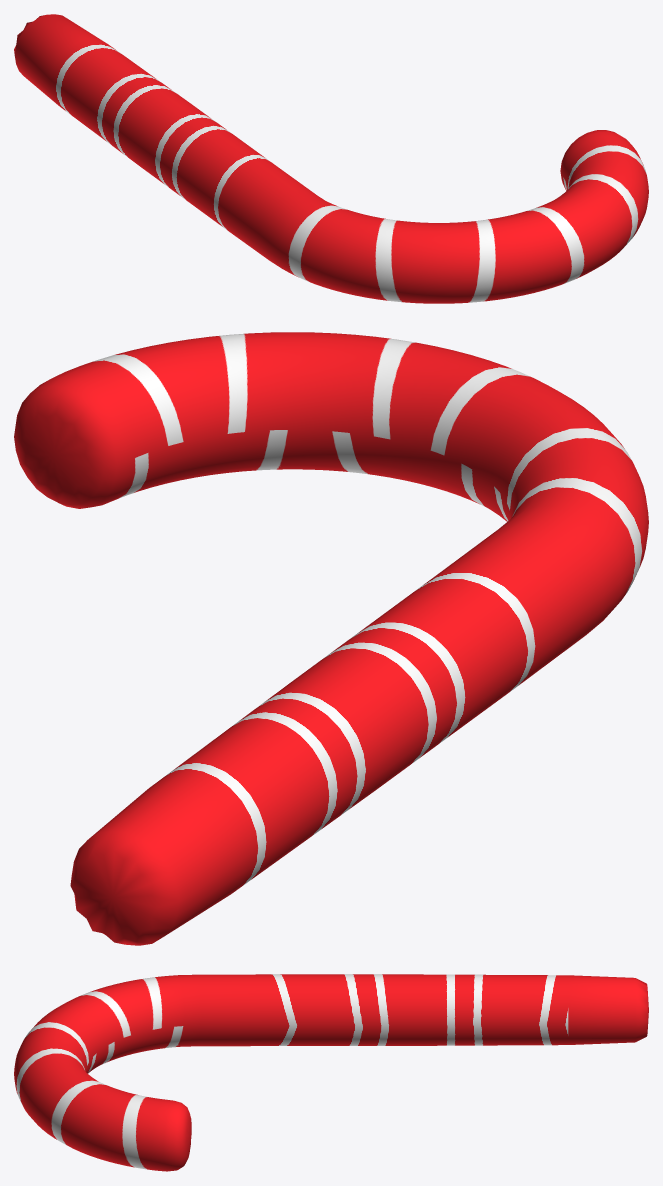
File: Bengala.fbx
The picture shows the model from 3 angles, top to bottom: view 1: azimuth 30°, elevation 25°; view 2: azimuth 150°, elevation 25°; view 3: azimuth 270°, elevation 25°; orthographic projection. The views are drawn at different scales.
Visible parts, largest first — view 1: Torus; view 2: Torus; view 3: Torus.
Part boxes in pixels (x1,y1,x2,y2): Torus: (14, 14, 648, 303); Torus: (14, 332, 648, 945); Torus: (14, 974, 648, 1171).
Size of the model in its own units: 245 by 47.77 by 422.
